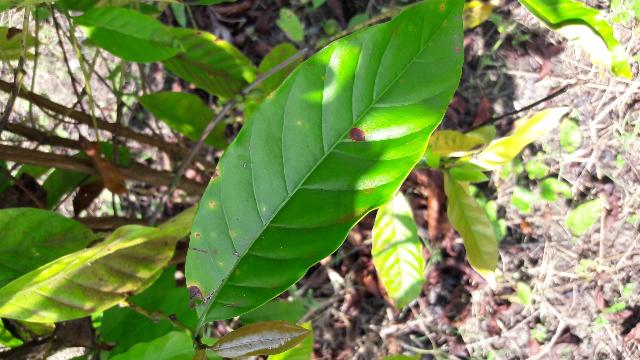red_spider_mite: (179, 3, 466, 317)
